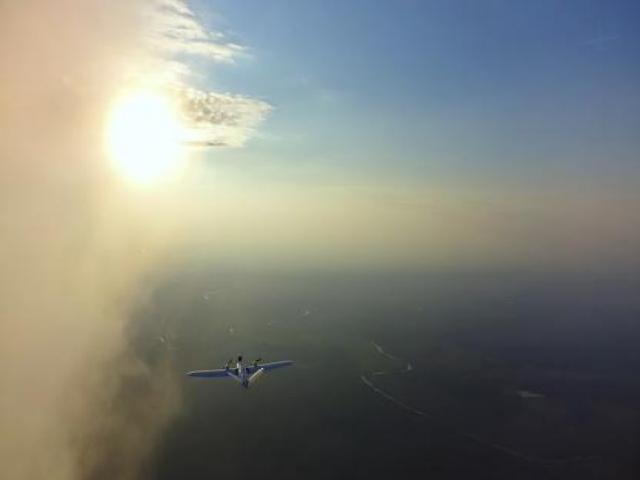uav: (183, 354, 294, 389)
